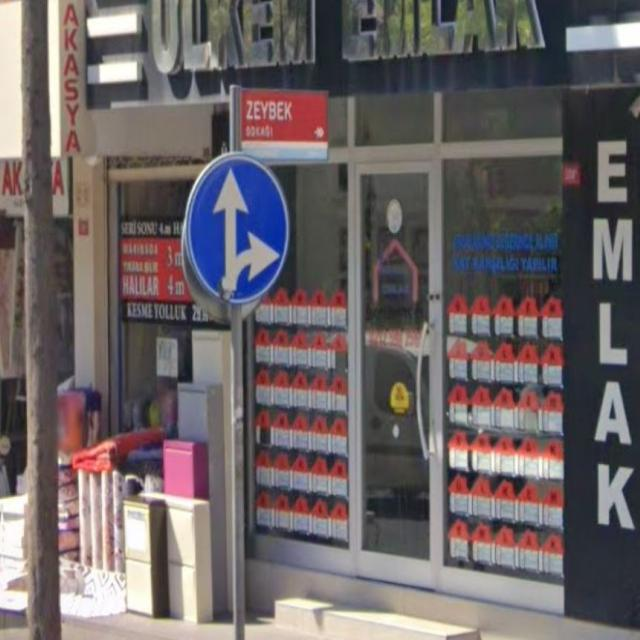ilerisag: (185, 154, 287, 300)
